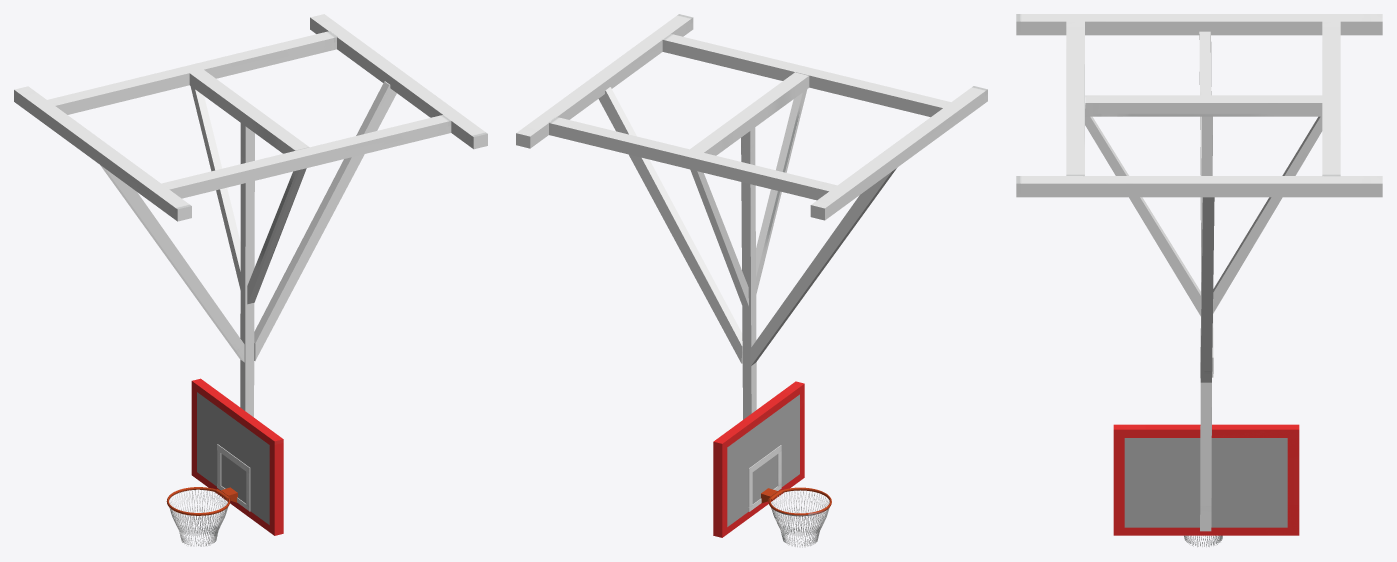
Rendered from BasketballhoopRaised(Textured).fbx.
The picture shows the model from 3 angles, left to right: view 1: azimuth 30°, elevation 25°; view 2: azimuth 150°, elevation 25°; view 3: azimuth 270°, elevation 25°; orthographic projection. The views are drawn at different scales.
Visible parts, largest first — view 1: BasketballHoop(Mainbeam), Backboard, BorderBackboard, Target; view 2: BasketballHoop(Mainbeam), Backboard, BorderBackboard, Target; view 3: BasketballHoop(Mainbeam), Backboard, BorderBackboard.
Part boxes in pixels (left/top/right/bottom): BasketballHoop(Mainbeam): left=14, top=14, right=487, bottom=546; Backboard: left=197, top=392, right=269, bottom=524; BorderBackboard: left=191, top=378, right=283, bottom=535; Target: left=217, top=444, right=250, bottom=511; BasketballHoop(Mainbeam): left=516, top=14, right=987, bottom=547; Backboard: left=727, top=394, right=799, bottom=526; BorderBackboard: left=713, top=381, right=804, bottom=537; Target: left=748, top=445, right=781, bottom=511; BasketballHoop(Mainbeam): left=1016, top=14, right=1382, bottom=546; Backboard: left=1124, top=438, right=1287, bottom=527; BorderBackboard: left=1113, top=424, right=1299, bottom=535.
Bounding box in the file's own units: 1728 × 2225 × 1578.
Materials: 5 (5 with a texture image).
